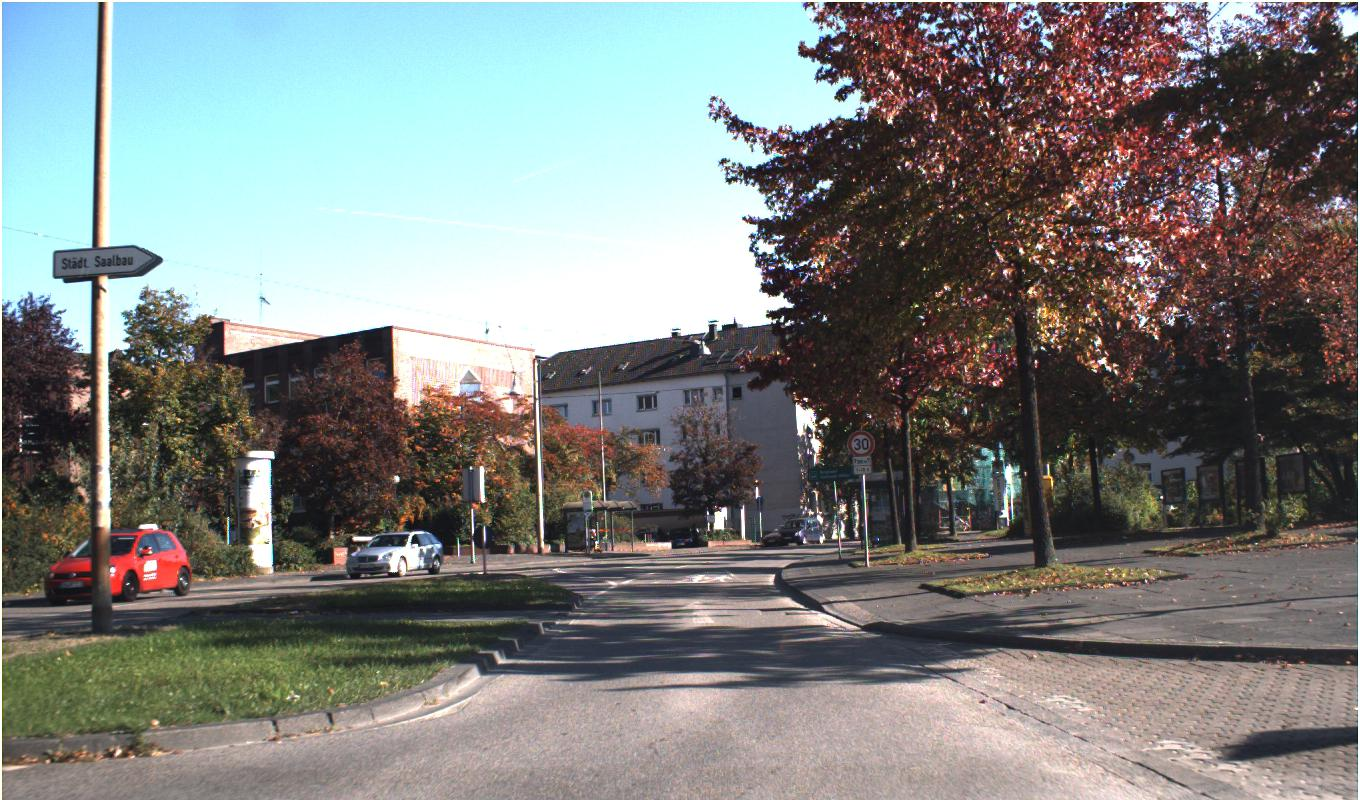prohibitory: (846, 429, 875, 458)
